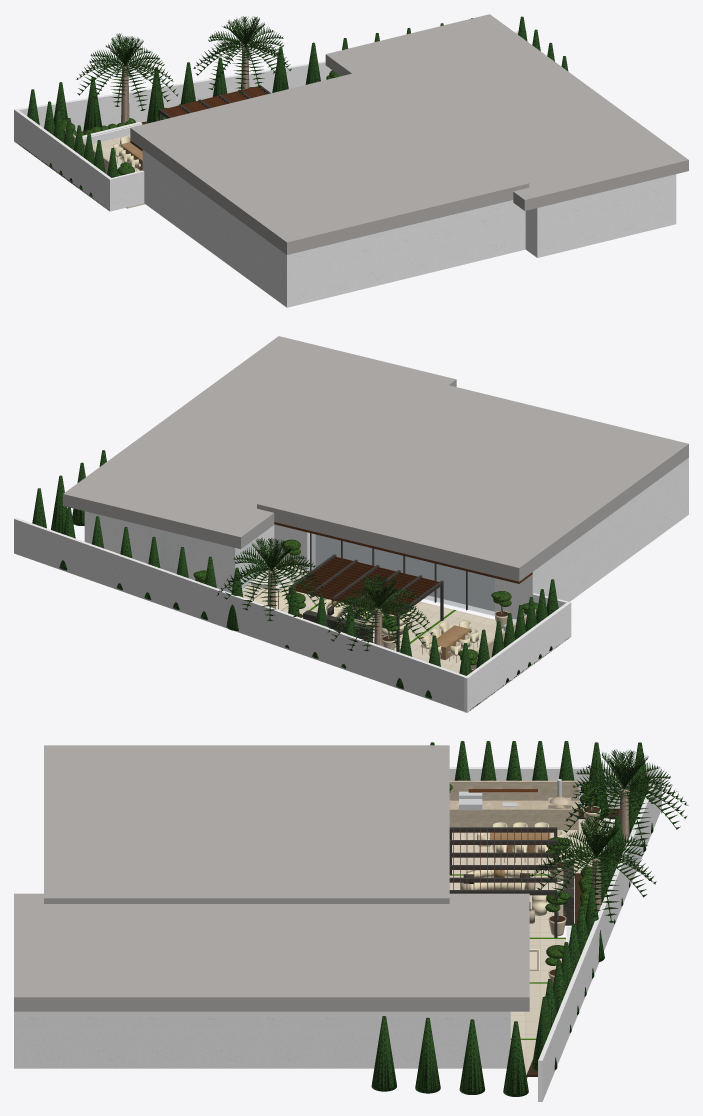
The model's file is singh_backyard.glb.
The picture shows the model from 3 angles, top to bottom: view 1: azimuth 30°, elevation 25°; view 2: azimuth 150°, elevation 25°; view 3: azimuth 270°, elevation 25°; orthographic projection. The views are drawn at different scales.
Parts seen in each view (by area): view 1: GreatRoom_roof, EastWing_roof, GreatRoom_volume, EastWing_volume, Wall_north_boundary, Wall_west_boundary, Palm_crown_10, Palm_crown_11, Wall_gate_return, Hedge_ficus_03, PlanterWall_west_20in, Hedge_ficus_04; view 2: GreatRoom_roof, EastWing_roof, Wall_north_boundary, GreatRoom_volume, EastWing_volume, Wall_west_boundary, Palm_crown_11, Palm_crown_10, Paving_tile_slab, Slider_panel_1, Slider_panel_2, GreatRoom_soffit (+4 smaller); view 3: GreatRoom_roof, EastWing_roof, EastWing_volume, Wall_north_boundary, Paving_tile_slab, Palm_crown_10, Palm_crown_11, Bar_backwall_travertine, Bar_counter_body, Wall_west_boundary, Hedge_ficus_16, Hedge_ficus_14 (+8 smaller).
Boxes of the visible parts, bbox=[...] form: GreatRoom_roof: bbox=[130, 68, 529, 254]; EastWing_roof: bbox=[325, 14, 688, 210]; GreatRoom_volume: bbox=[142, 150, 525, 307]; EastWing_volume: bbox=[525, 174, 676, 257]; Wall_north_boundary: bbox=[14, 31, 526, 140]; Wall_west_boundary: bbox=[14, 109, 110, 210]; Palm_crown_10: bbox=[76, 33, 178, 110]; Palm_crown_11: bbox=[193, 16, 291, 93]; Wall_gate_return: bbox=[108, 170, 144, 211]; Hedge_ficus_03: bbox=[83, 77, 101, 132]; PlanterWall_west_20in: bbox=[82, 122, 142, 143]; Hedge_ficus_04: bbox=[146, 67, 164, 123]; GreatRoom_roof: bbox=[257, 380, 688, 581]; EastWing_roof: bbox=[63, 336, 456, 549]; Wall_north_boundary: bbox=[14, 517, 469, 712]; GreatRoom_volume: bbox=[274, 458, 688, 619]; EastWing_volume: bbox=[84, 511, 274, 593]; Wall_west_boundary: bbox=[464, 602, 569, 712]; Palm_crown_11: bbox=[216, 537, 326, 621]; Palm_crown_10: bbox=[327, 574, 432, 651]; Paving_tile_slab: bbox=[242, 573, 503, 673]; Slider_panel_1: bbox=[467, 572, 494, 615]; Slider_panel_2: bbox=[436, 564, 465, 608]; GreatRoom_soffit: bbox=[274, 522, 532, 583]; GreatRoom_roof: bbox=[44, 745, 449, 903]; EastWing_roof: bbox=[14, 893, 529, 1011]; EastWing_volume: bbox=[14, 1011, 510, 1068]; Wall_north_boundary: bbox=[538, 767, 661, 1101]; Paving_tile_slab: bbox=[449, 820, 603, 1078]; Palm_crown_10: bbox=[563, 749, 688, 848]; Palm_crown_11: bbox=[530, 815, 656, 922]; Bar_backwall_travertine: bbox=[449, 780, 578, 800]; Bar_counter_body: bbox=[449, 811, 578, 829]; Wall_west_boundary: bbox=[449, 767, 661, 809]; Hedge_ficus_16: bbox=[415, 1017, 440, 1093]; Hedge_ficus_14: bbox=[503, 1021, 528, 1096].
Size of what is drawn, in the model's own units: 28.16 by 5.42 by 27.33.
Materials: 33 (22 with a texture image).
